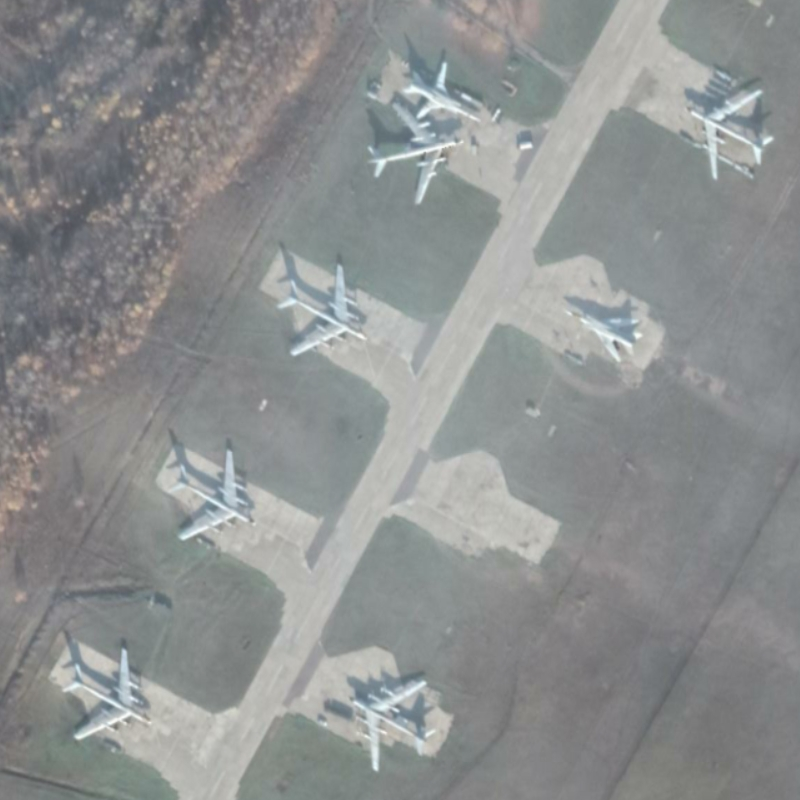A12: (399, 60, 484, 124), (562, 308, 645, 365)
A17: (365, 99, 466, 206), (60, 645, 155, 742), (275, 261, 368, 357), (166, 446, 258, 542), (684, 87, 776, 182), (349, 678, 439, 773)
